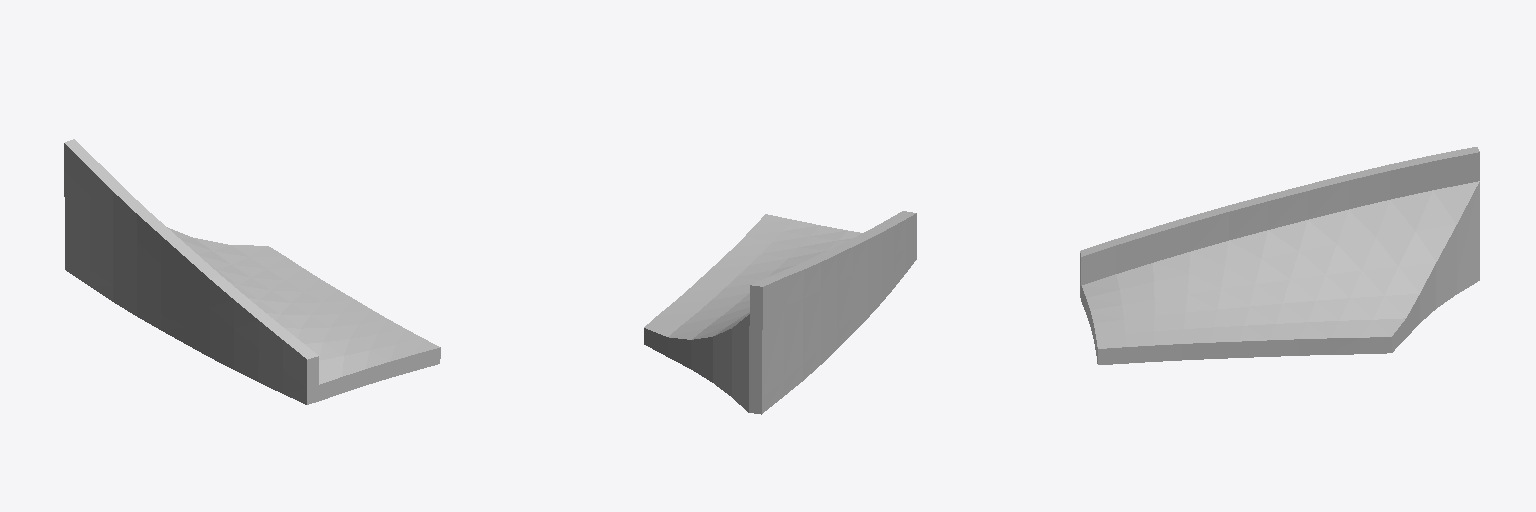
File: col_boss_ramp_L.obj
The picture shows the model from 3 angles: view 1: azimuth 30°, elevation 25°; view 2: azimuth 150°, elevation 25°; view 3: azimuth 270°, elevation 25°; orthographic projection.
Parts seen in each view (by area): view 1: boss_ramp_R_col_Plane.017; view 2: boss_ramp_R_col_Plane.017; view 3: boss_ramp_R_col_Plane.017.
Boxes of the visible parts, box(x1,y1,x2,y2) form: boss_ramp_R_col_Plane.017: box(64, 139, 440, 404); boss_ramp_R_col_Plane.017: box(644, 211, 916, 414); boss_ramp_R_col_Plane.017: box(1080, 147, 1479, 364).
Bounding box in the file's own units: 1.19 × 0.775 × 2.2.